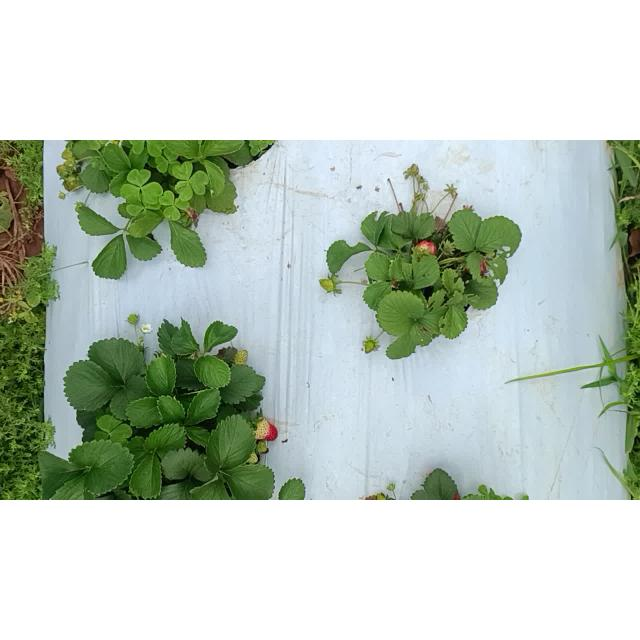no-maduro: (317, 276, 333, 294), (234, 348, 248, 366)
semi-maduro: (253, 417, 277, 441), (414, 240, 438, 254)
